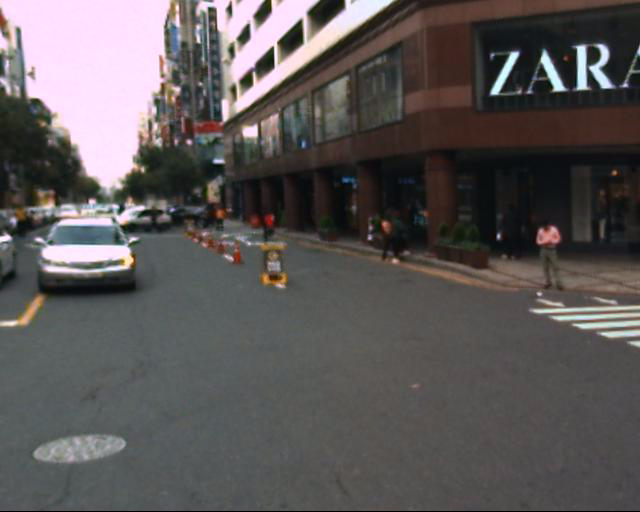person: (535, 214, 569, 297), (383, 200, 421, 271), (377, 205, 413, 272), (494, 197, 527, 269), (508, 202, 535, 266), (257, 202, 287, 250)
